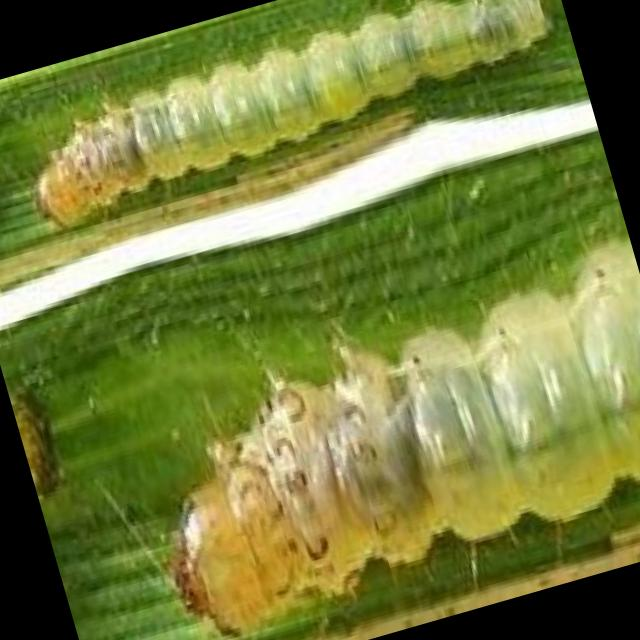leaf-folder: (103, 226, 640, 640), (0, 0, 573, 258)
